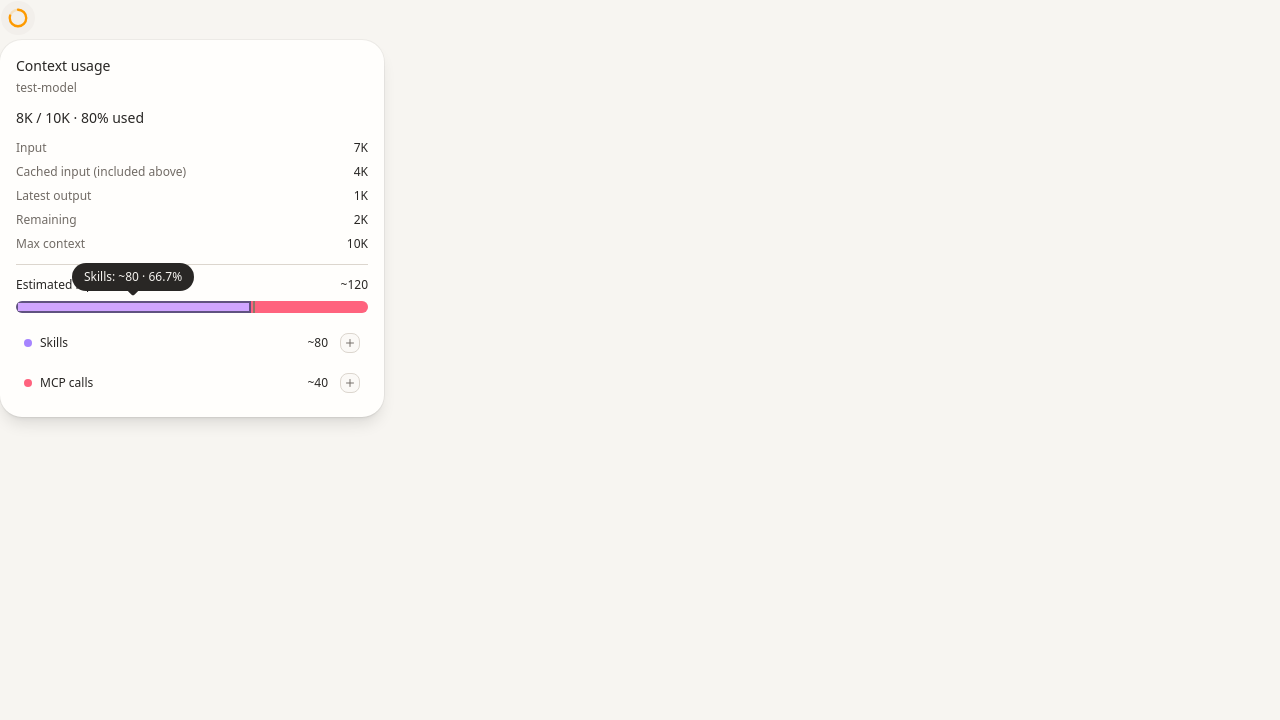
Test: ContextUsage › shows source estimates and expands named skill and MCP entries separately from provider totals
Earlier steps of the test are not shown.
Click the heading "Skills ~80" at coordinates (28, 343), box [24,333,360,353]
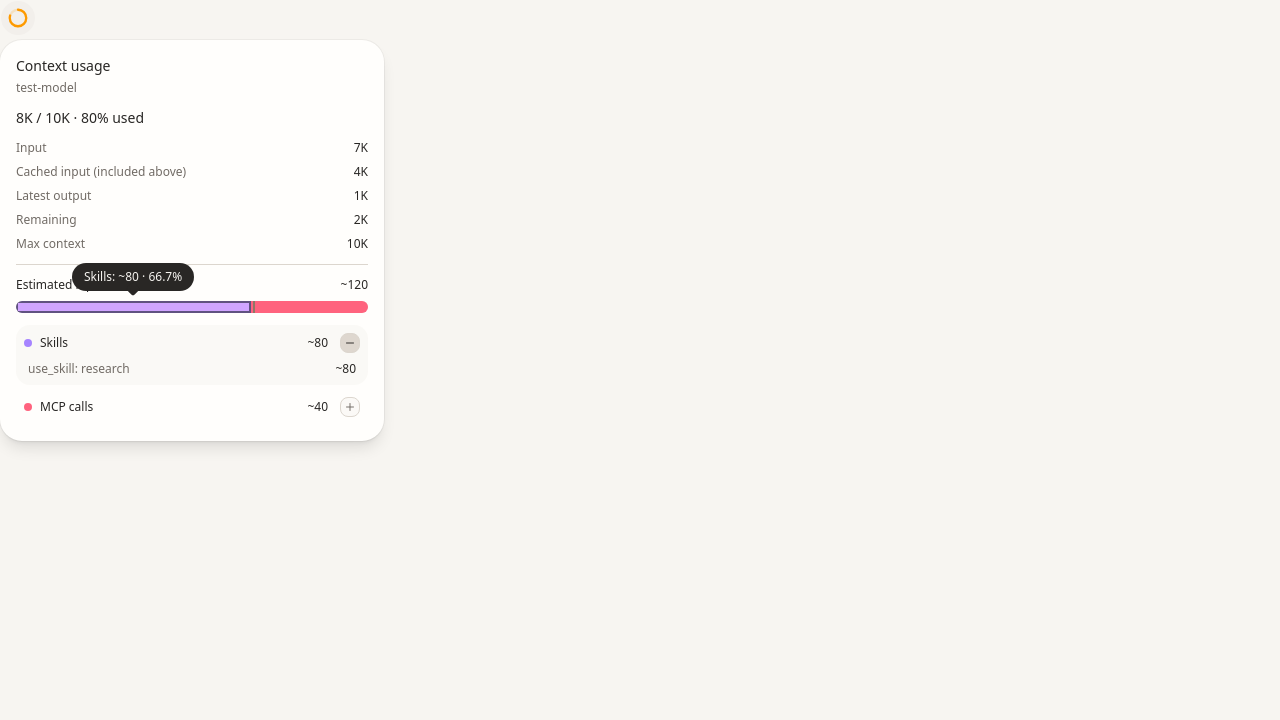
Expected: the text "~120" is shown, [340,277,368,293]
Result: the text "Skills" shows "use_skill: research" at [28,360,130,377]
